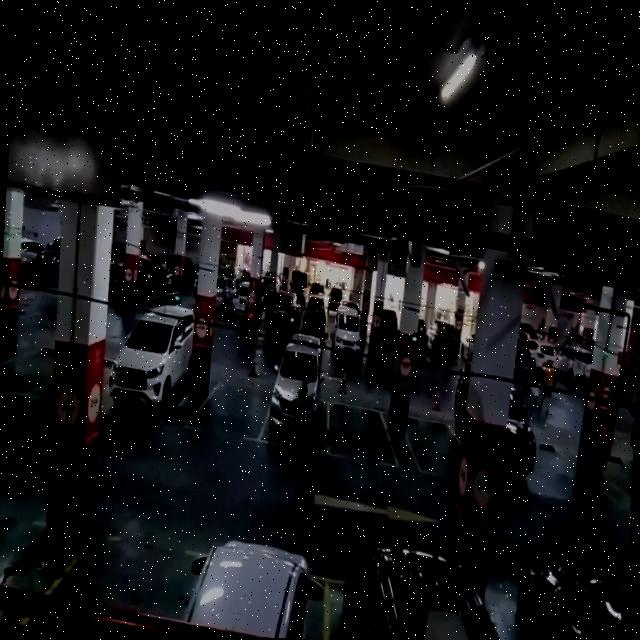empty: (185, 376, 272, 446), (324, 399, 402, 466), (402, 413, 462, 479)
occupied: (105, 314, 190, 426), (260, 342, 334, 454)
